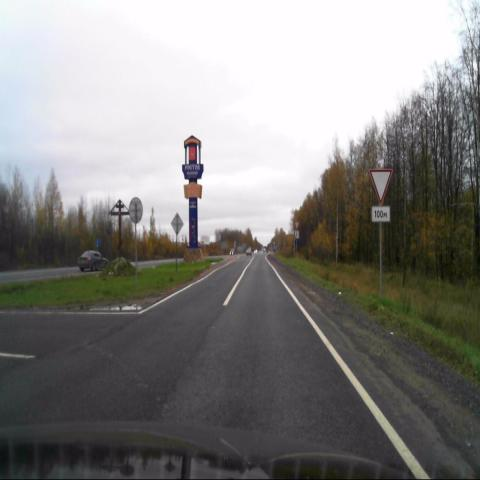8_1_1: (372, 206, 390, 222)
